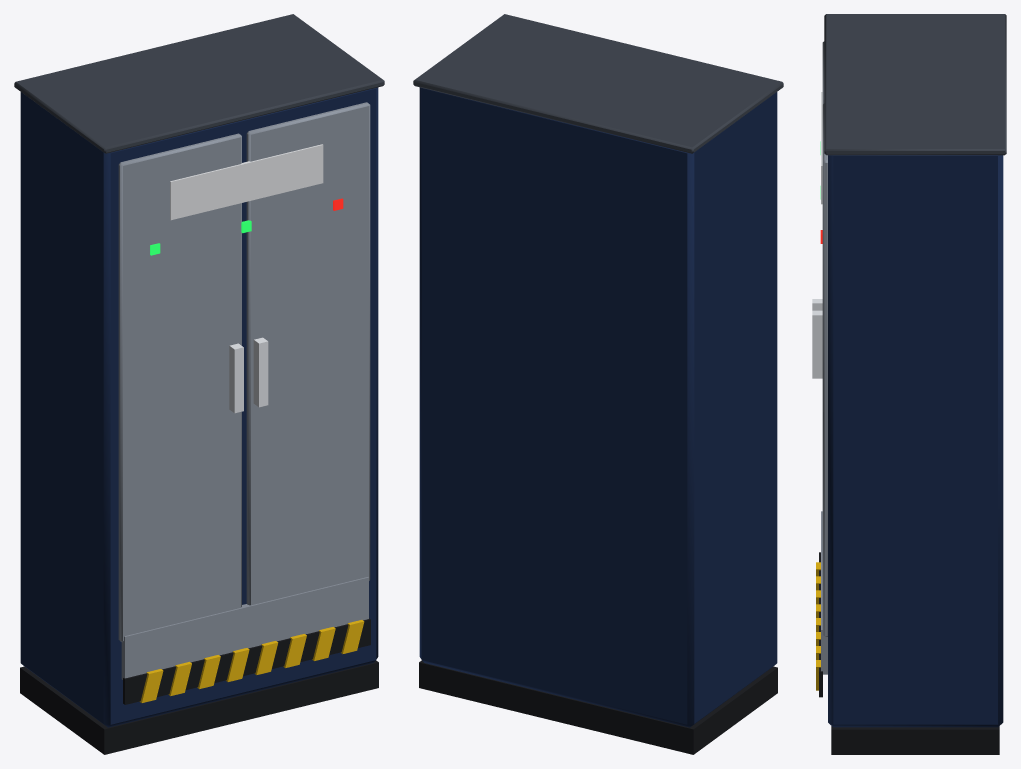
Rendered from junction_cable_termination_cabinet.glb.
The picture shows the model from 3 angles, left to right: view 1: azimuth 30°, elevation 25°; view 2: azimuth 150°, elevation 25°; view 3: azimuth 270°, elevation 25°; orthographic projection.
Visible parts, largest first — view 1: junction_cable_termination_cabinet; view 2: junction_cable_termination_cabinet; view 3: junction_cable_termination_cabinet.
Part boxes in pixels (x1=…): junction_cable_termination_cabinet: x1=14, y1=14, x2=384, y2=754; junction_cable_termination_cabinet: x1=413, y1=14, x2=783, y2=754; junction_cable_termination_cabinet: x1=812, y1=14, x2=1006, y2=754.
Bounding box in the file's own units: 0.92 × 1.91 × 0.555.
